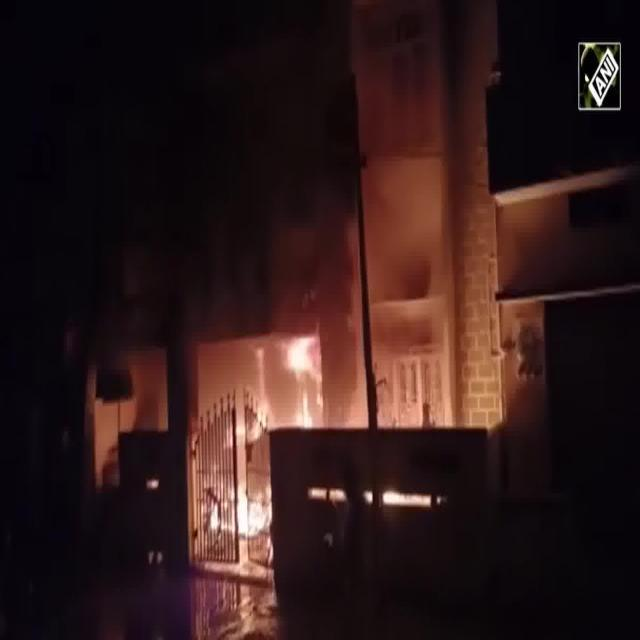Fire: (225, 492, 258, 538), (286, 340, 312, 377)
